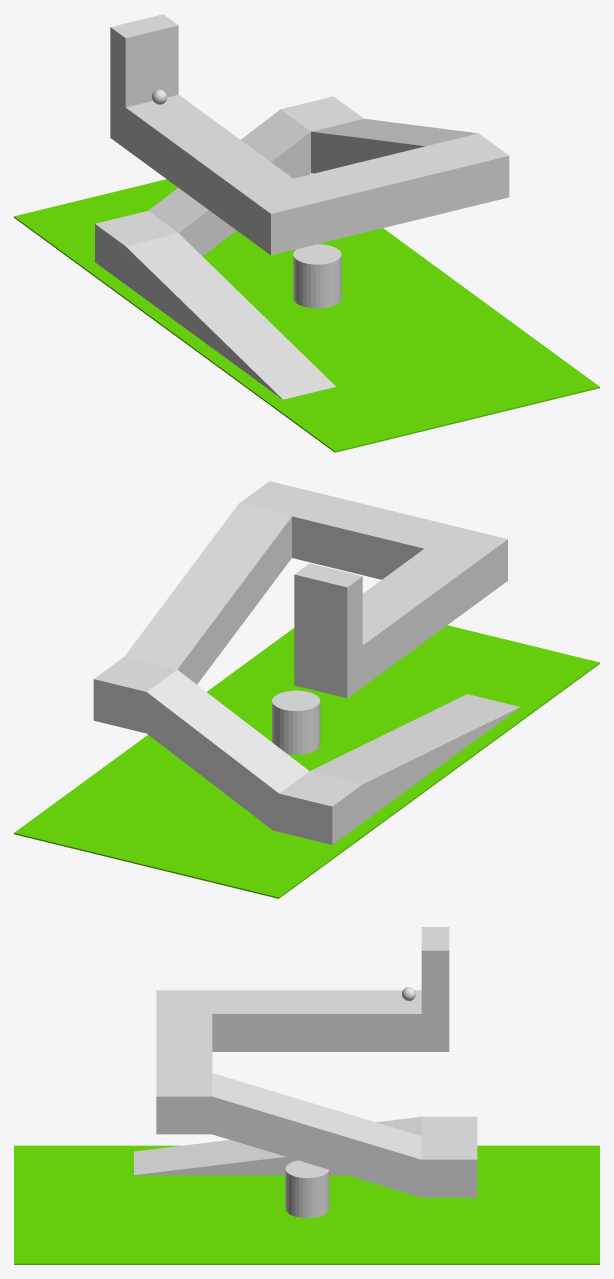
3 views of the same model, one above another, from view 1: azimuth 30°, elevation 25°; view 2: azimuth 150°, elevation 25°; view 3: azimuth 270°, elevation 25° (orthographic). The views are drawn at different scales.
Parts seen in each view (by area): view 1: Cube, Floor, Suzanne_Proxy; view 2: Cube, Floor, Suzanne_Proxy; view 3: Floor, Cube, Suzanne_Proxy.
Boxes of the visible parts, box(x1,y1,x2,y2) form: Cube: box(95, 14, 509, 399); Floor: box(14, 174, 599, 452); Suzanne_Proxy: box(293, 244, 341, 308); Cube: box(93, 481, 520, 844); Floor: box(14, 625, 599, 898); Suzanne_Proxy: box(272, 690, 320, 754); Floor: box(14, 1145, 599, 1264); Cube: box(134, 927, 477, 1197); Suzanne_Proxy: box(285, 1160, 329, 1217).
Bounding box in the file's own units: 40 × 36 × 84.
